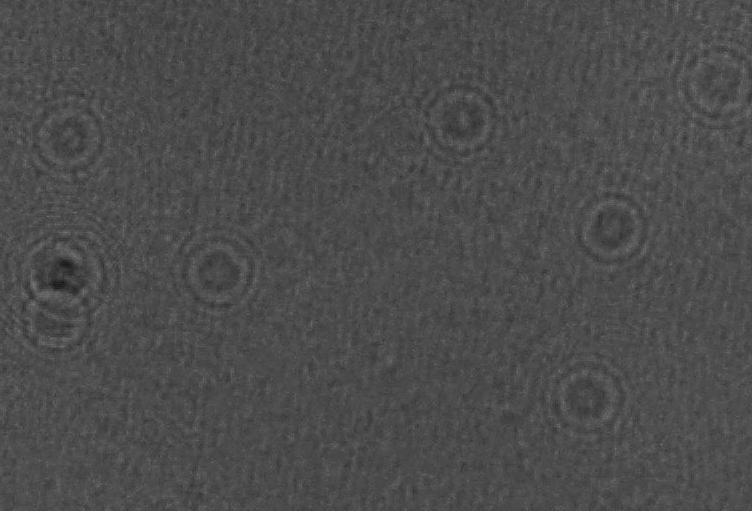bead: (3, 91, 131, 182), (530, 347, 645, 444), (159, 223, 274, 319), (402, 78, 515, 162), (662, 32, 752, 134), (560, 186, 662, 271), (11, 284, 105, 368)
